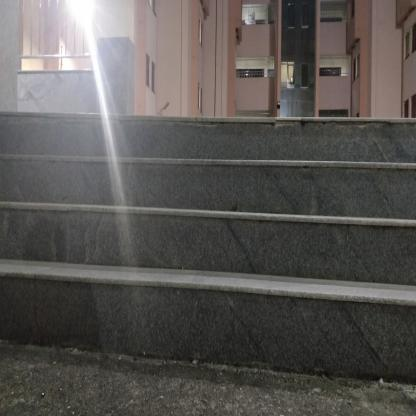stairs: (5, 107, 416, 376)
